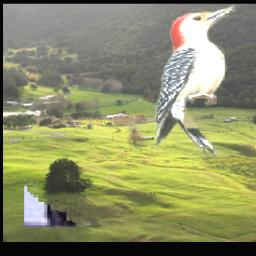Crow: (24, 6, 111, 228)
Woodpecker: (156, 6, 240, 159)
